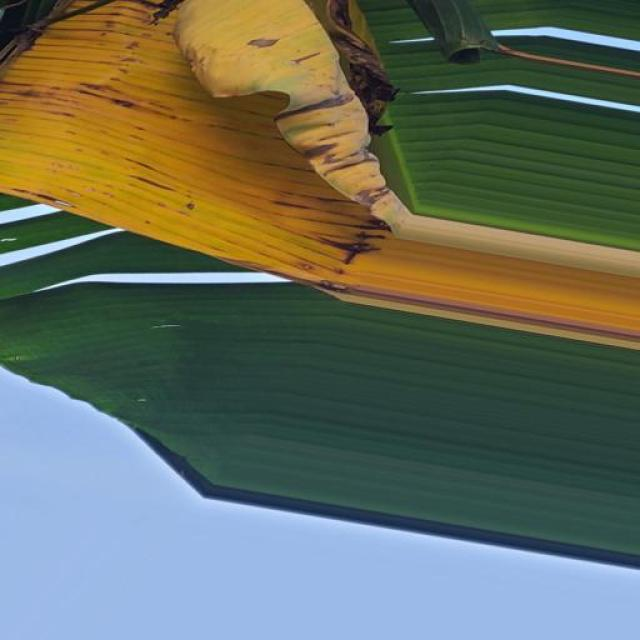Cordana: (0, 0, 476, 338)
